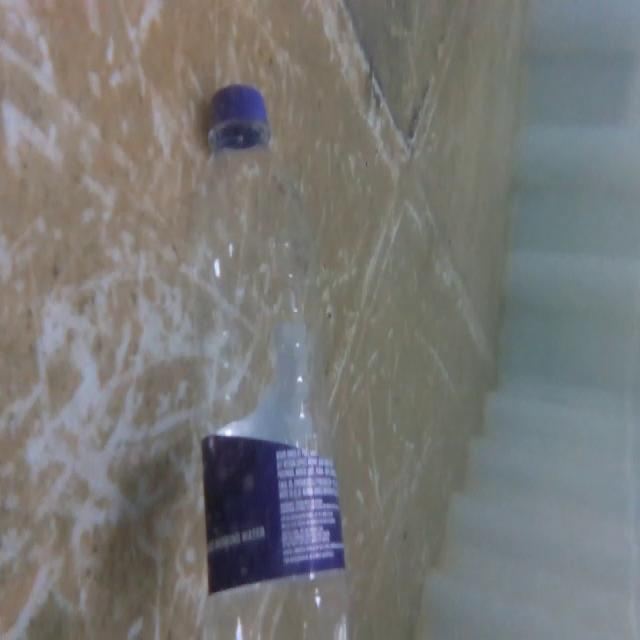plastic bottle: (184, 70, 356, 640)
